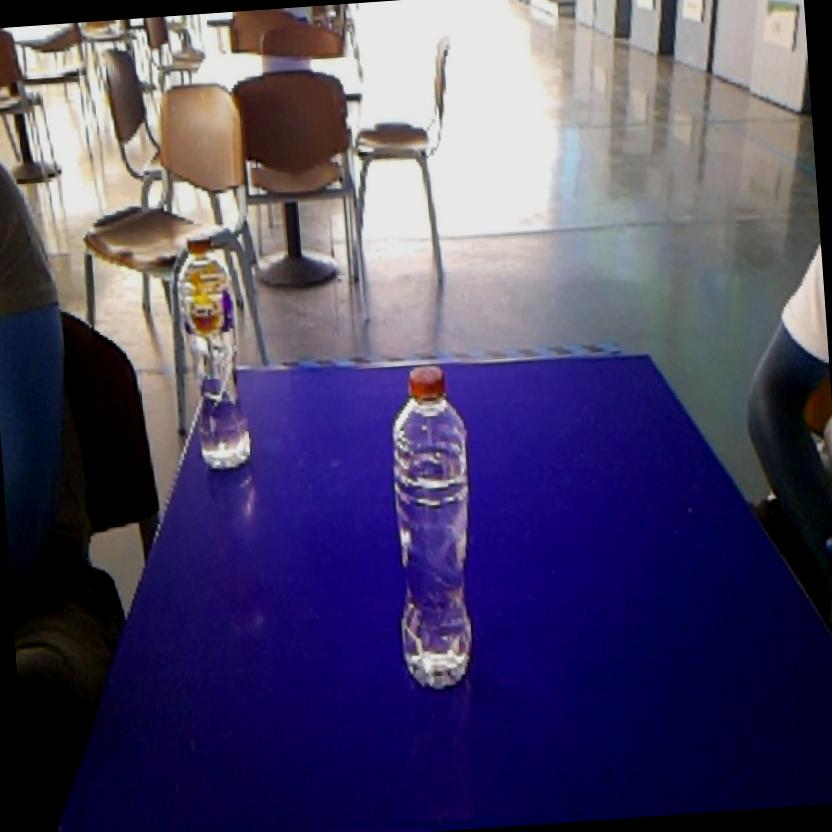good: (164, 224, 260, 485)
no_label: (372, 356, 493, 700)
